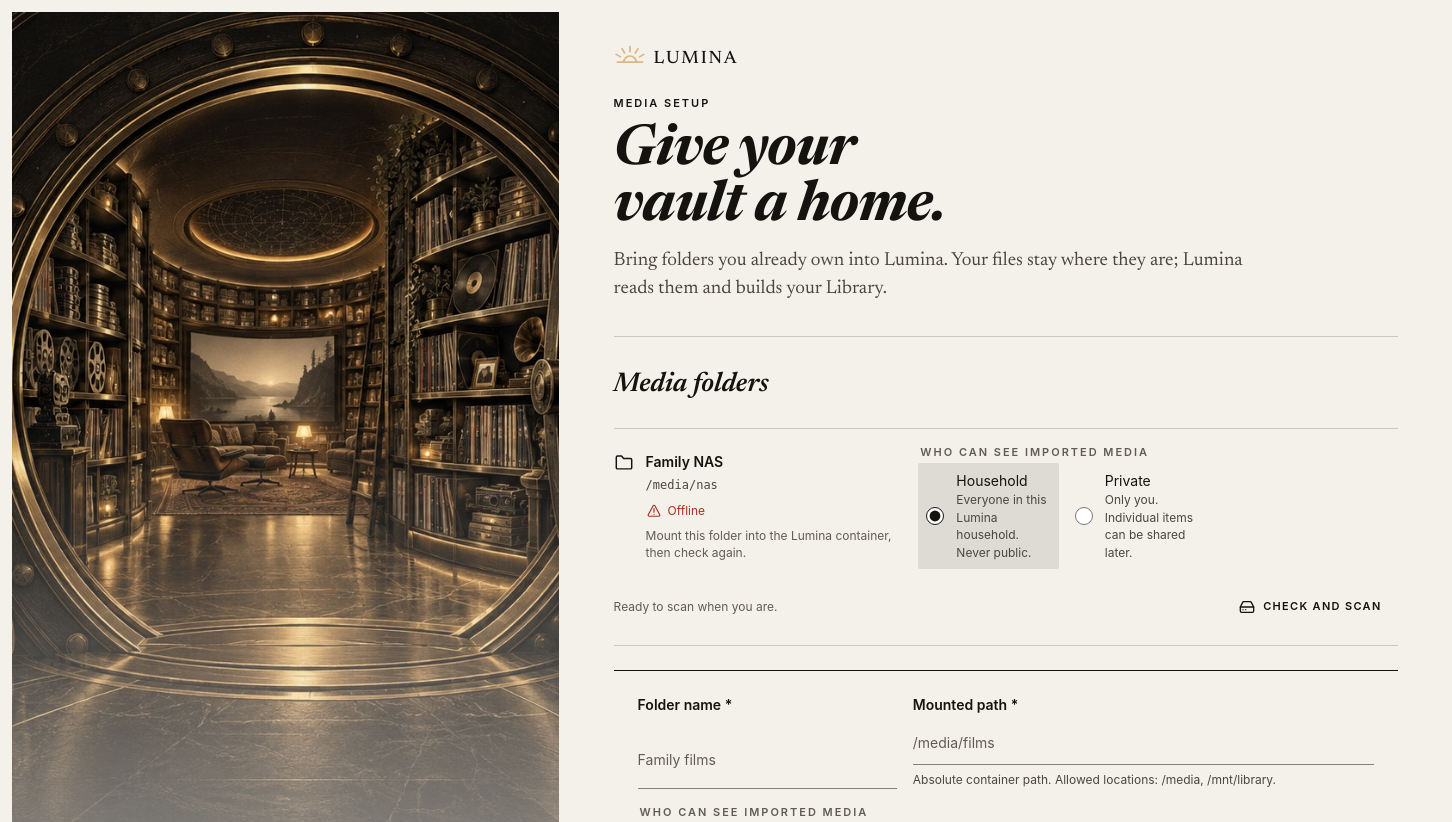
Test: admin vault setup › probes an offline folder before scanning and only scans the available result
Expected: the text "Offline" is shown, [668,502,705,519]
Click the button "Check and scan" at x=1310, y=607, box [1223,585,1398,629]
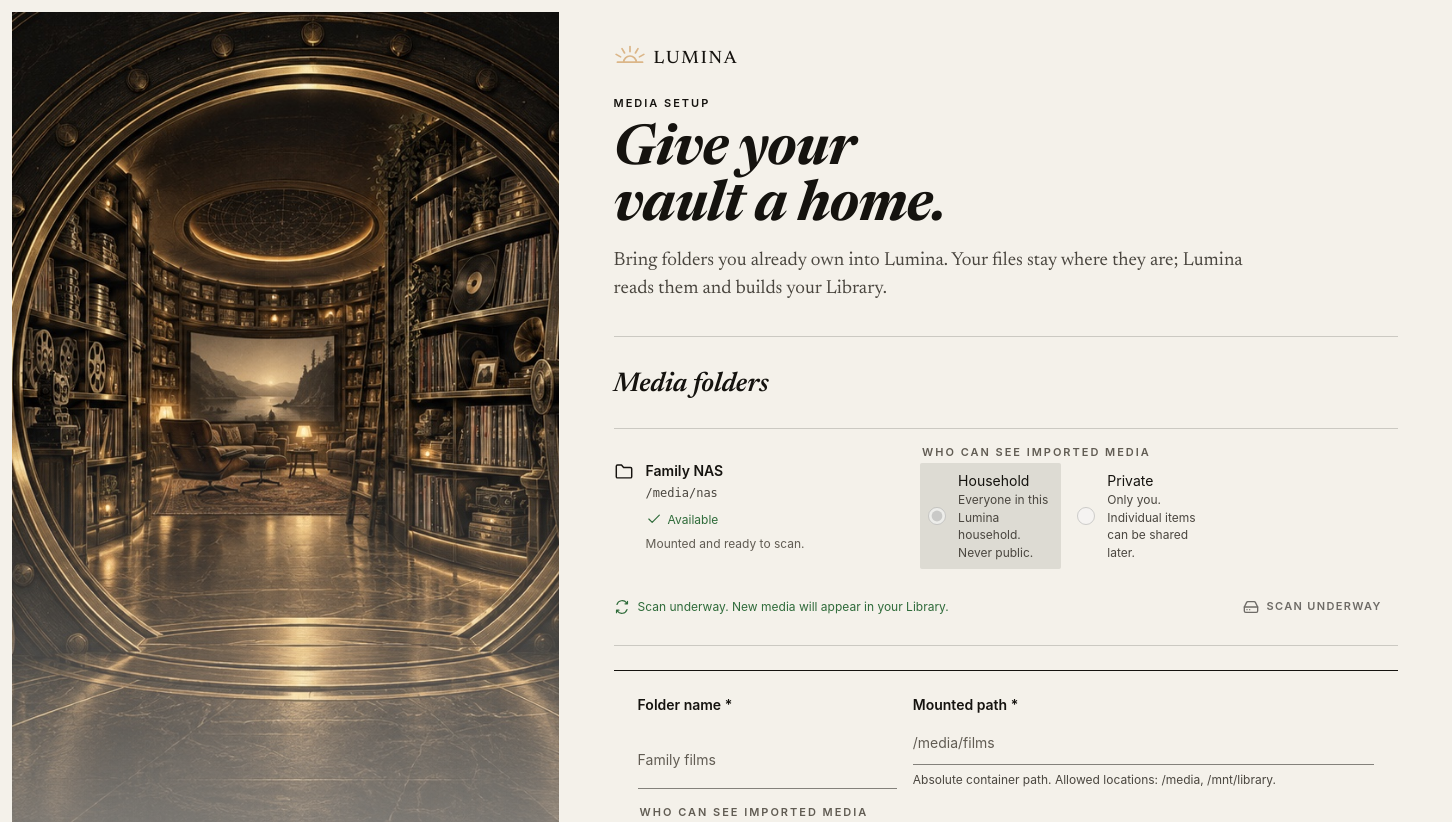
Expected: the text "Available" is shown, [668,511,718,528]
